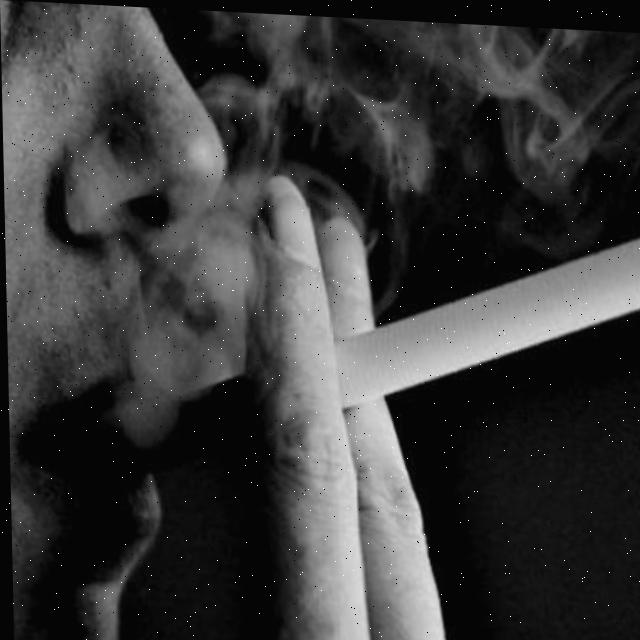cigarette: (93, 211, 640, 507)
